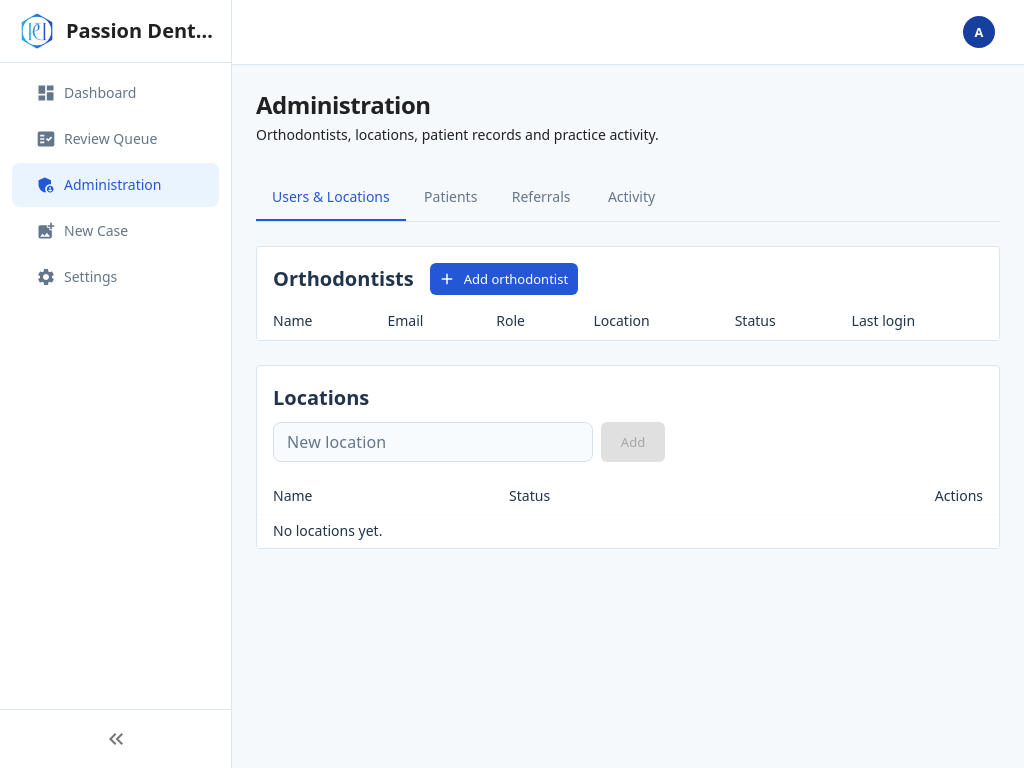
Test: Administration deep links › puts the chosen tab in the url so it can be shared
Click the tab "Activity": click(632, 197) [586, 173, 676, 221]
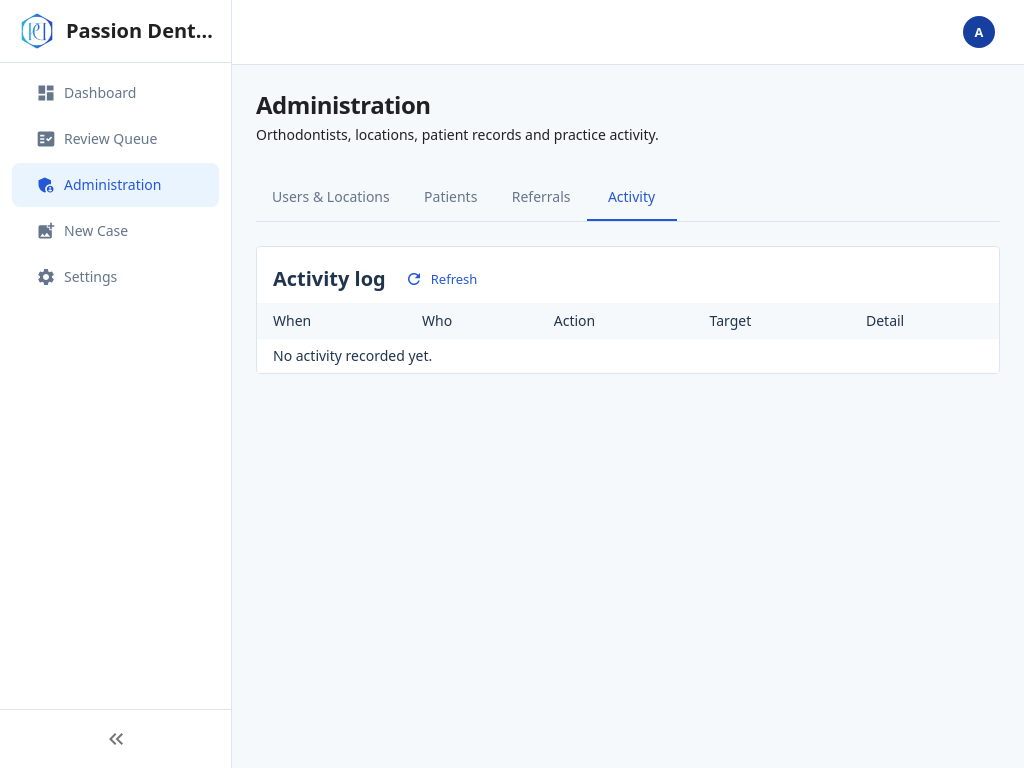
Now the heading "Activity log" is shown, box [273, 263, 386, 295]
